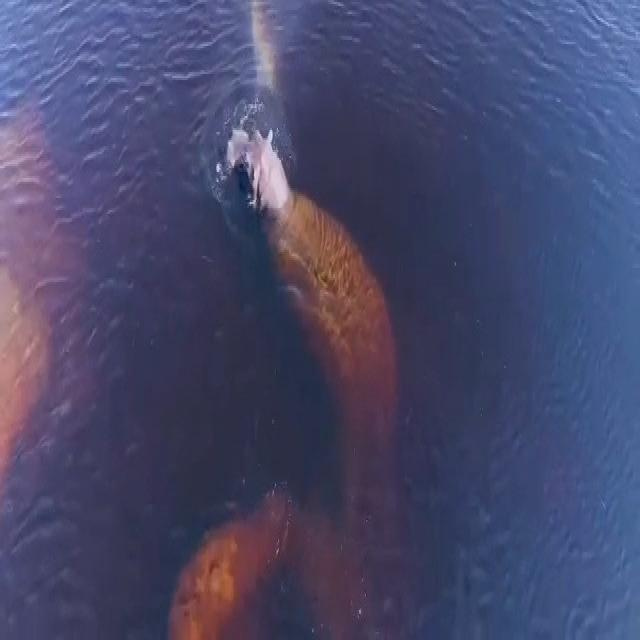Hippopotamus: (223, 119, 400, 484), (169, 504, 269, 640)
